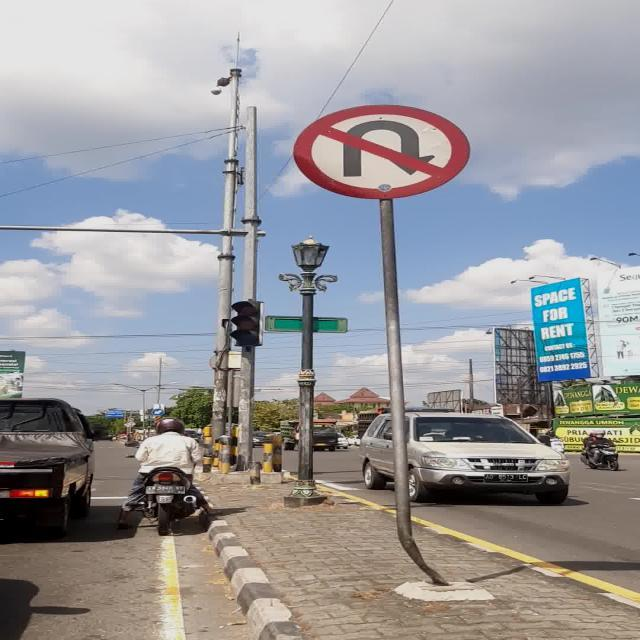Dilarang Putar Balik: (293, 104, 472, 198)
